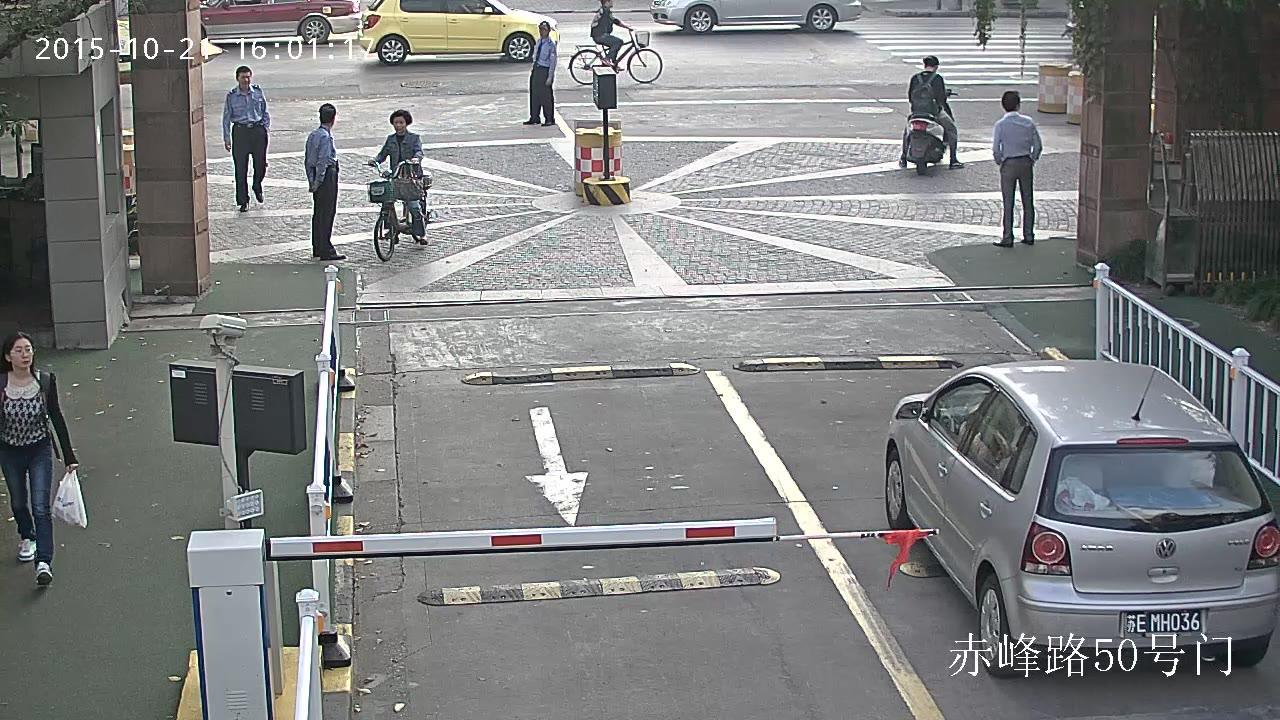person: (0, 330, 87, 589), (362, 110, 432, 260), (568, 0, 662, 85), (368, 110, 427, 244), (992, 90, 1042, 248), (898, 55, 963, 173), (898, 56, 963, 169), (223, 65, 270, 211), (304, 102, 346, 259), (522, 21, 557, 125), (590, 0, 629, 73)
